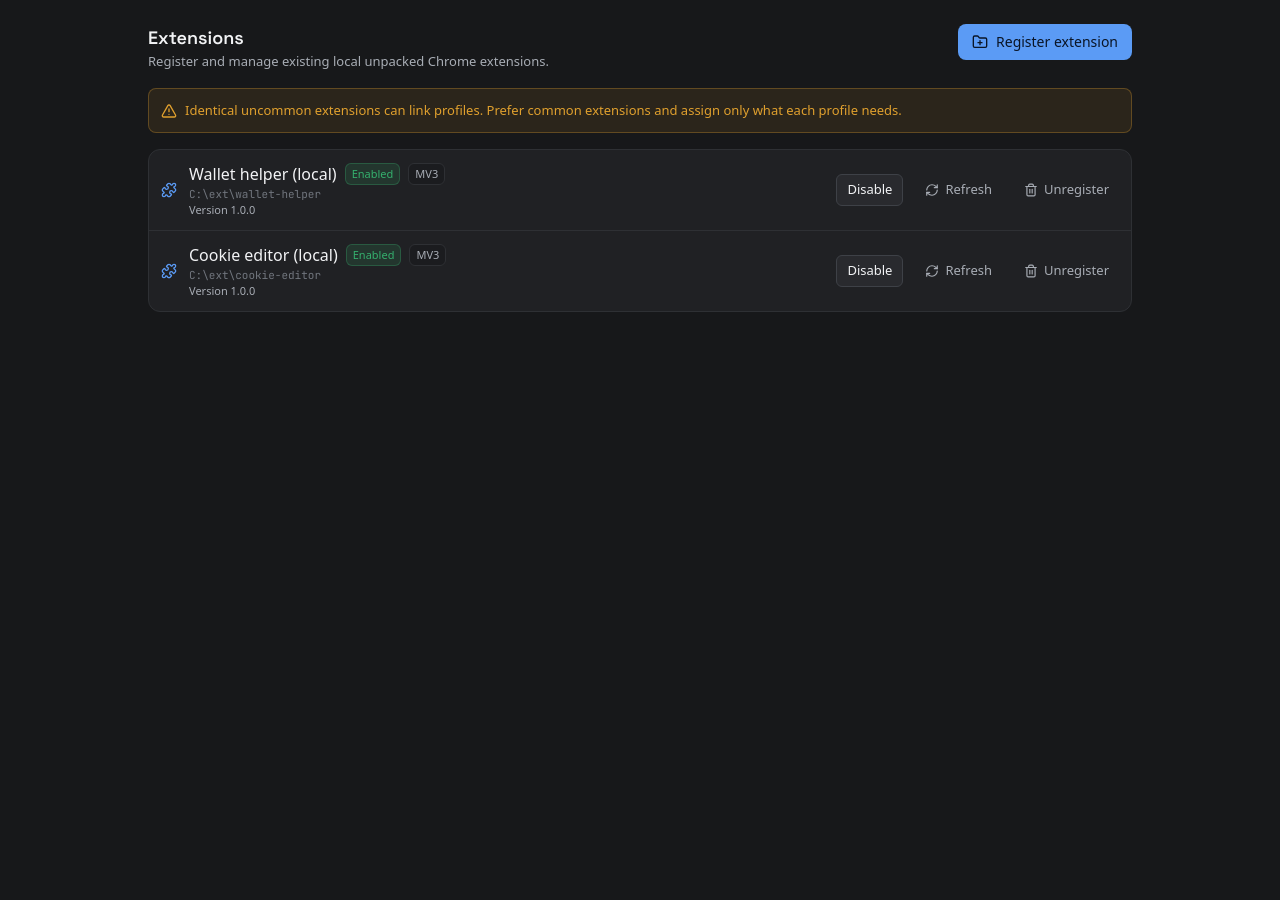
Test: ExtensionsPage › keeps unregister failure and retry visible inside the confirmation dialog
Click the button "Unregister" in the row of "Wallet helper (local)". click: [1066, 190]
box: [1014,174,1119,206]
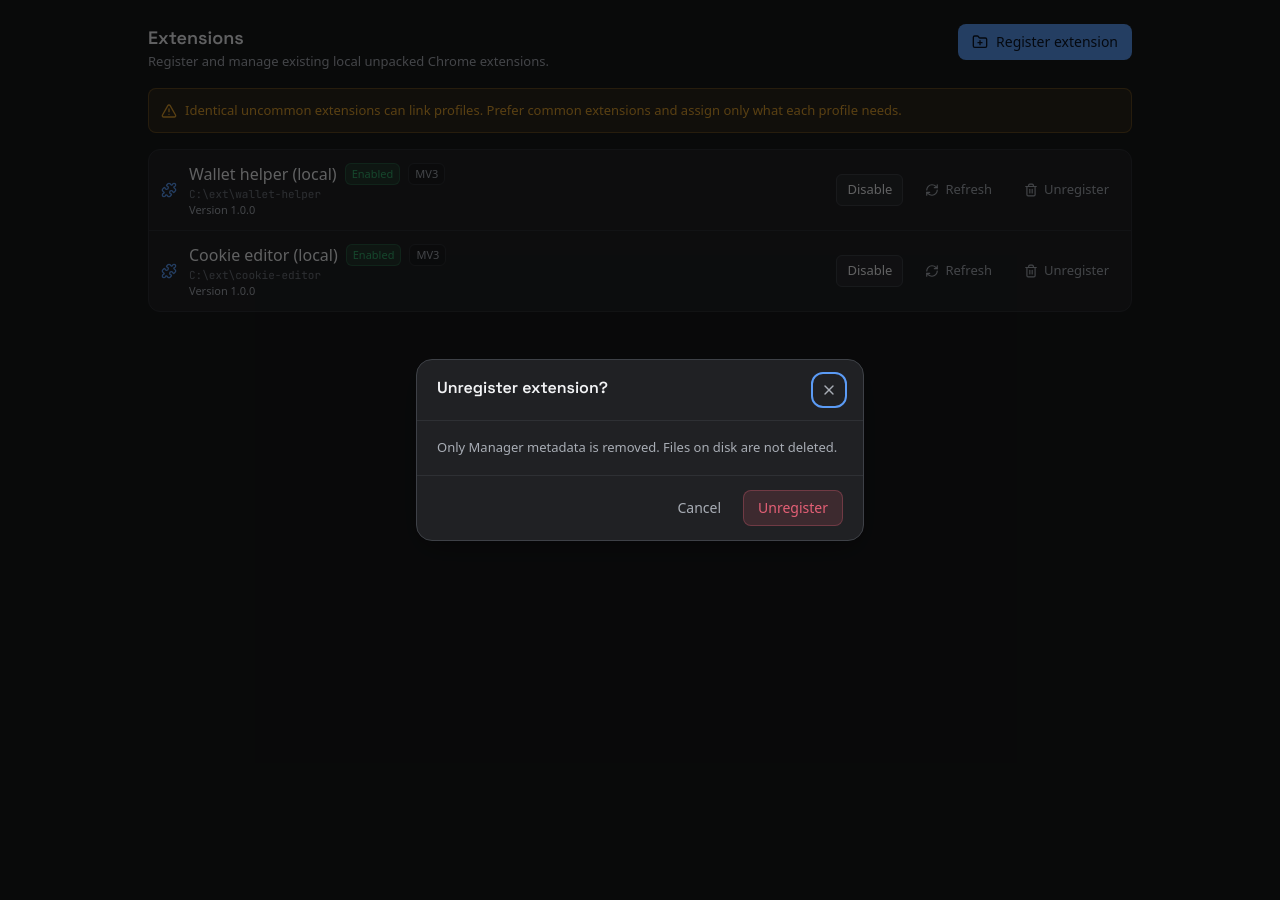
Click the button "Unregister". click: [793, 508]
box: [743,490,843,526]
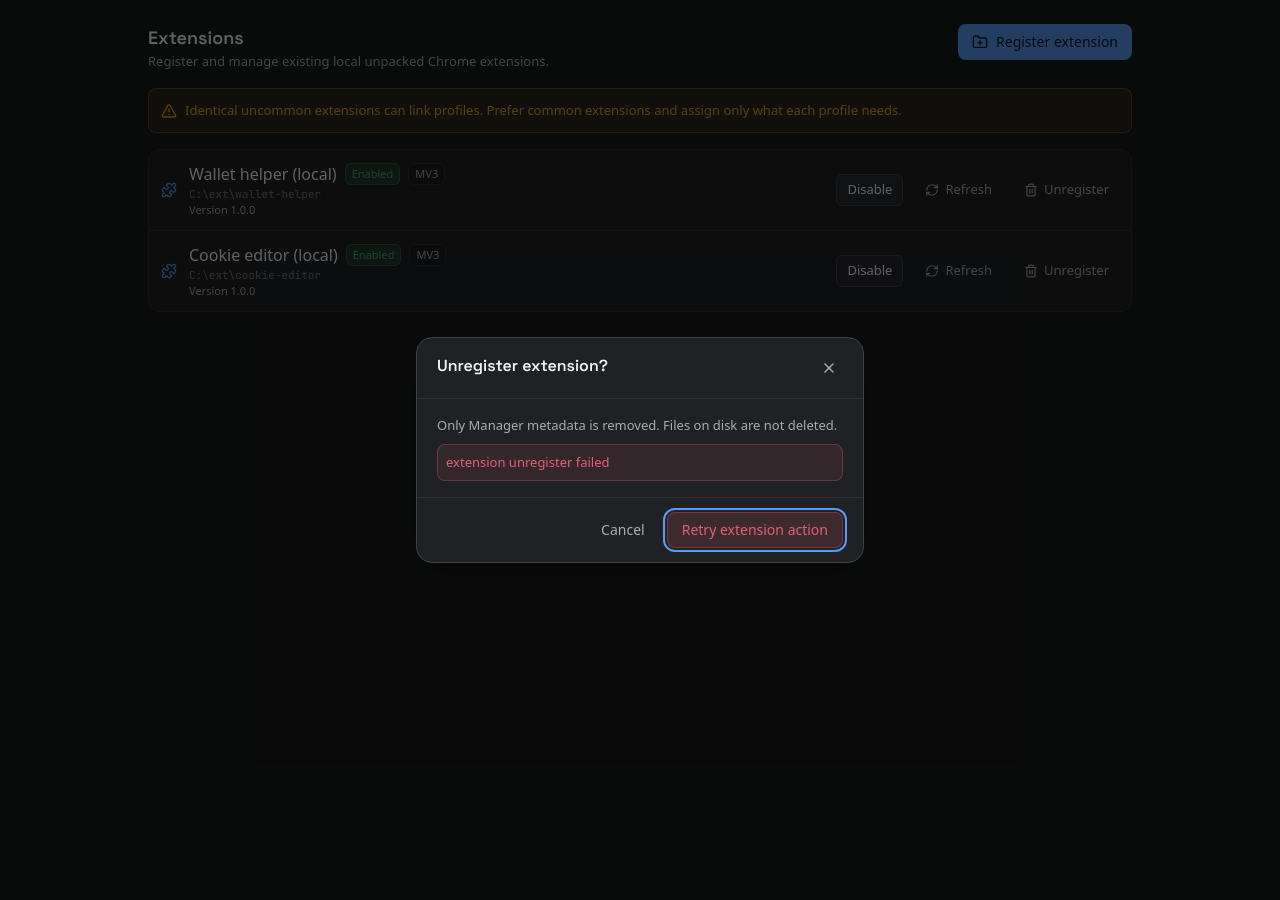
Result: the message reads "extension unregister failed" at [446,453,610,471]
Click the button "Retry extension action". click: [755, 530]
box: [667,512,843,548]
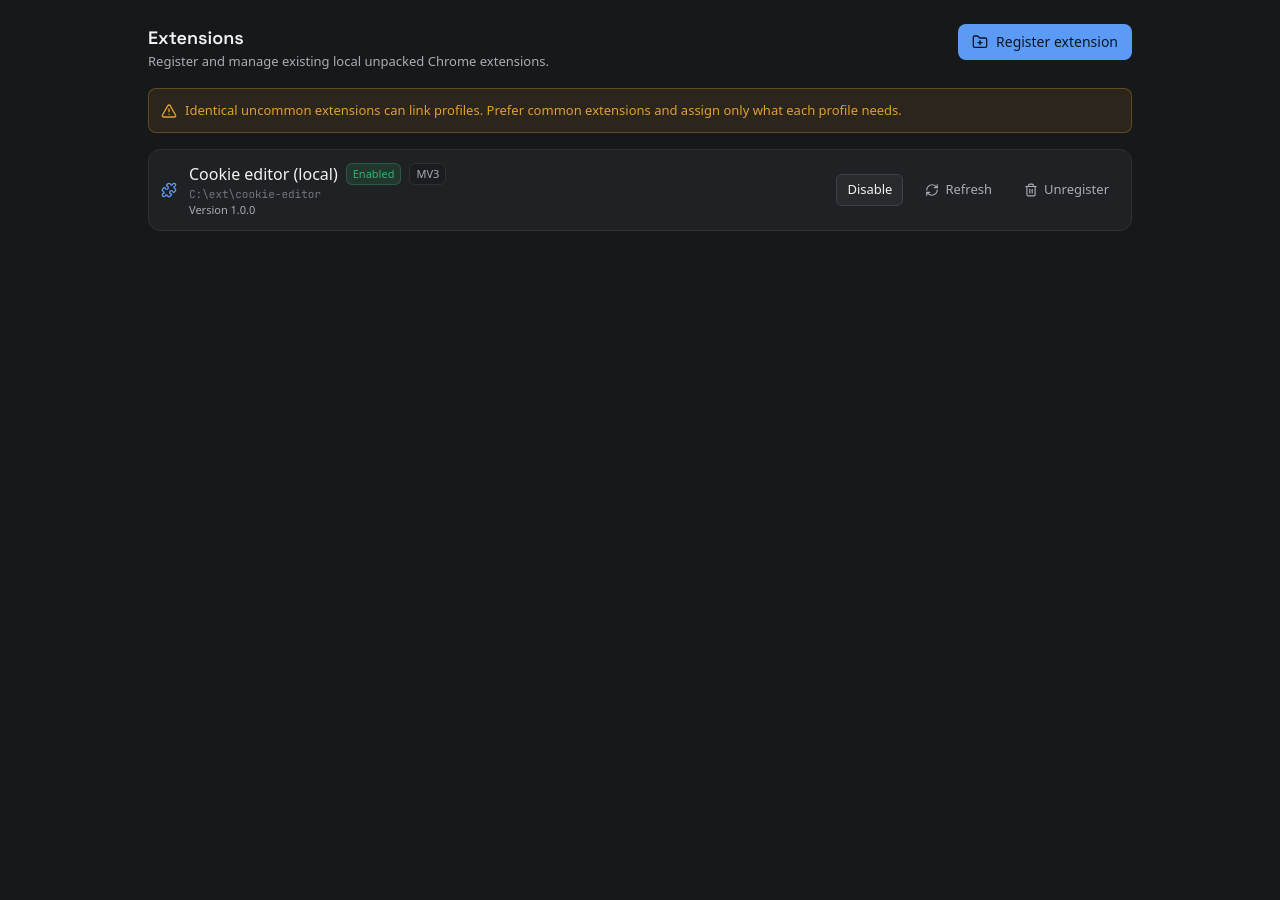
Result: the dialog is gone
